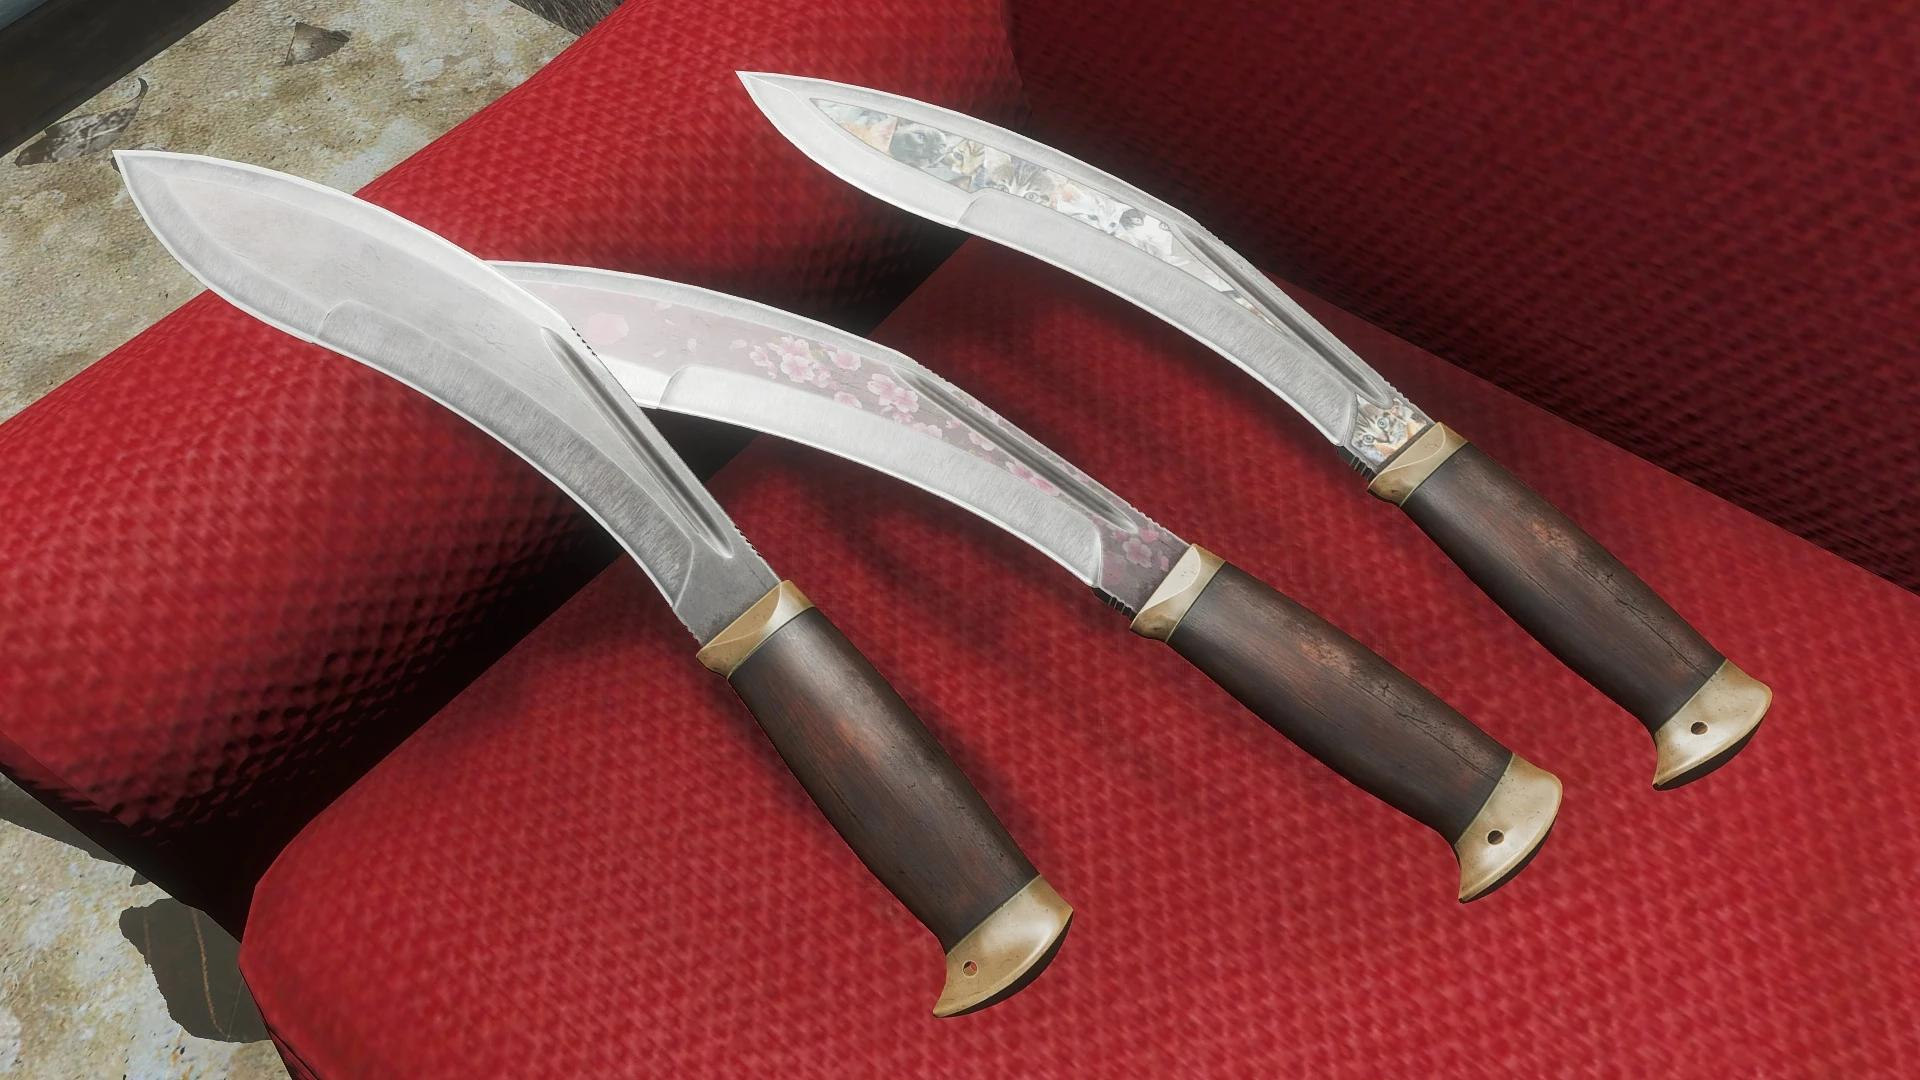facao: (117, 152, 1069, 1014), (738, 73, 1770, 789), (492, 262, 1559, 899)
